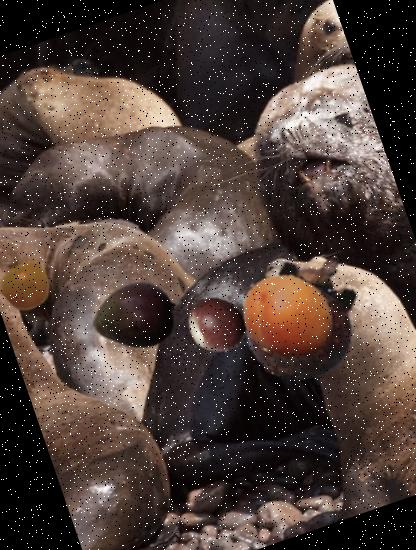Apricot: (228, 258, 348, 376)
Mango: (82, 262, 188, 367)
Mangostan: (222, 231, 390, 400)
Nectarine: (180, 286, 254, 360)
Physalis: (0, 249, 60, 318)
